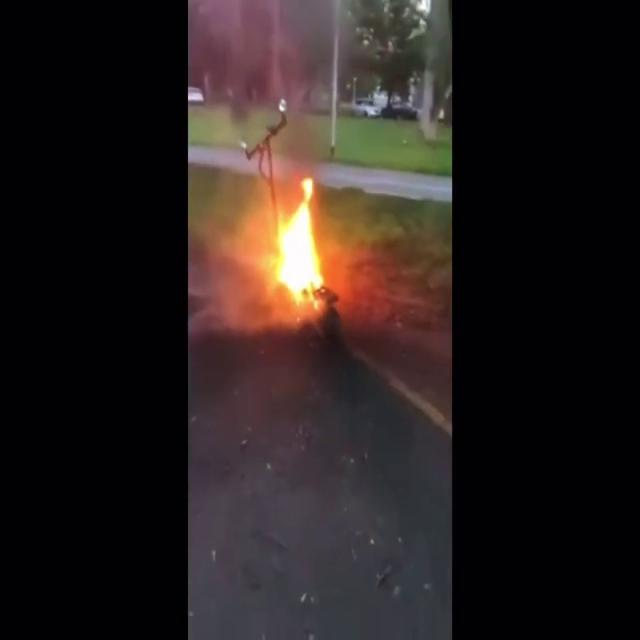Fire: (273, 174, 326, 304)
Smoke: (190, 0, 381, 111), (188, 176, 276, 340)
